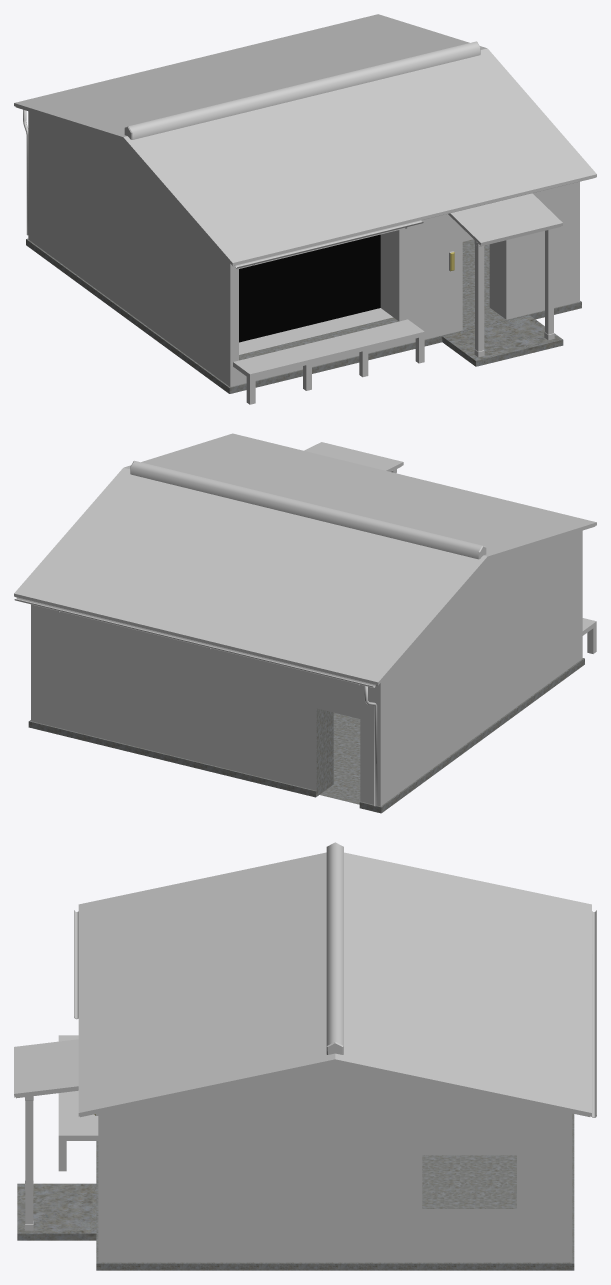
The model's file is JPBM11ABase.obj.
3 views of the same model, one above another, from view 1: azimuth 30°, elevation 25°; view 2: azimuth 150°, elevation 25°; view 3: azimuth 270°, elevation 25° (orthographic). The views are drawn at different scales.
Parts seen in each view (by area): view 1: JPBM11ABase; view 2: JPBM11ABase; view 3: JPBM11ABase.
Boxes of the visible parts, x1=… form: JPBM11ABase: x1=14, y1=14, x2=596, y2=404; JPBM11ABase: x1=14, y1=433, x2=596, y2=813; JPBM11ABase: x1=14, y1=842, x2=596, y2=1270.
Size of the model in its own units: 12.5 by 6.34 by 14.76.
